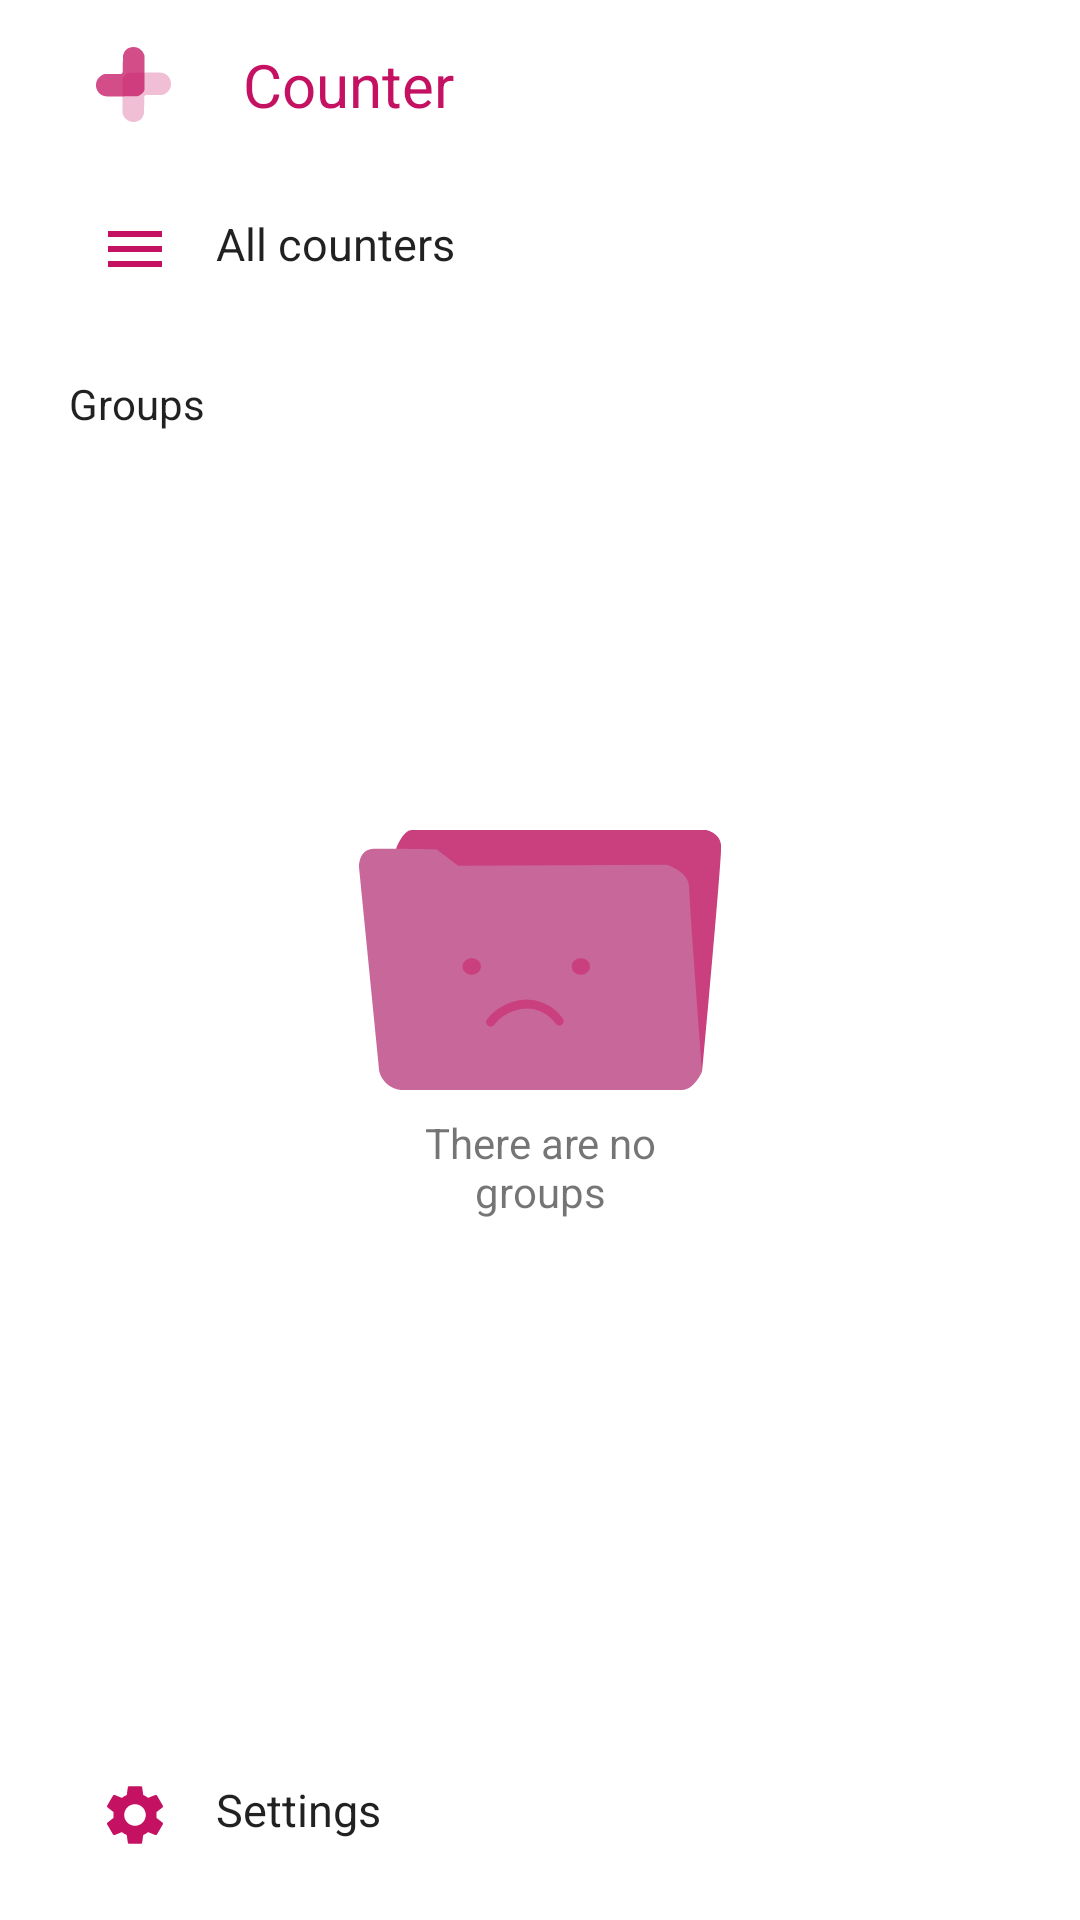

Where to tap for icons on this 1080 × 1920 app screen, as (x=x, y=y):
menu: (x=135, y=249)
